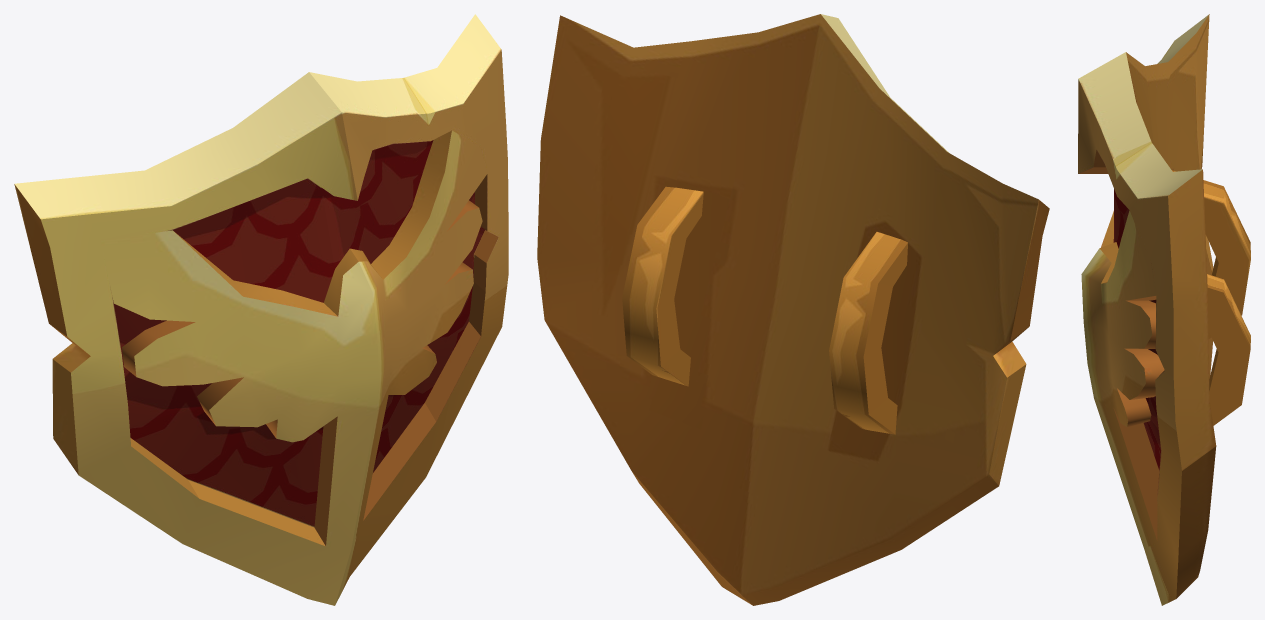
The model's file is Gold_05.FBX.
3 renders of one model, left to right at view 1: azimuth 30°, elevation 25°; view 2: azimuth 150°, elevation 25°; view 3: azimuth 270°, elevation 25°, orthographic. The views are drawn at different scales.
Visible parts, largest first — view 1: Gold_05; view 2: Gold_05; view 3: Gold_05.
Part boxes in pixels (<box>): Gold_05: <box>14,14,508,605</box>; Gold_05: <box>537,14,1049,605</box>; Gold_05: <box>1078,14,1250,605</box>.
Bounding box in the file's own units: 54.09 × 60.63 × 17.83.
